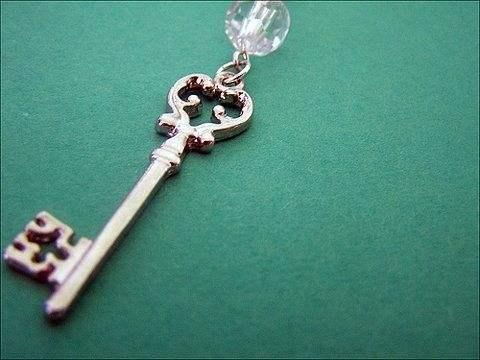key: (5, 35, 272, 328)
